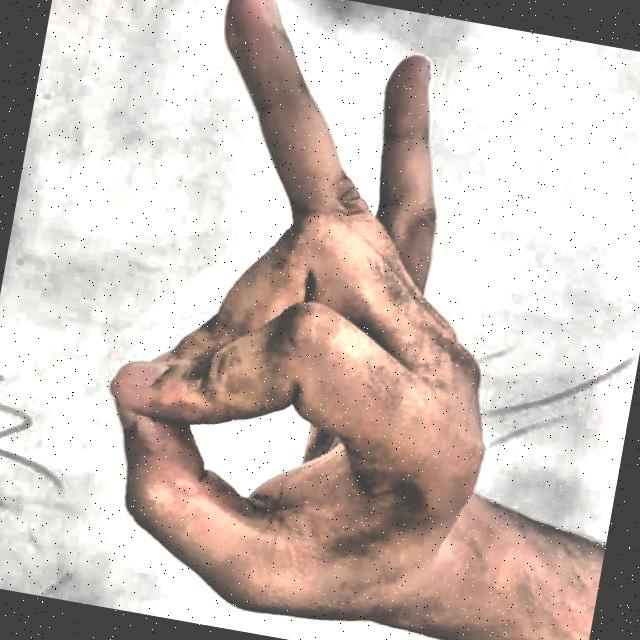Na: (17, 0, 578, 640)
